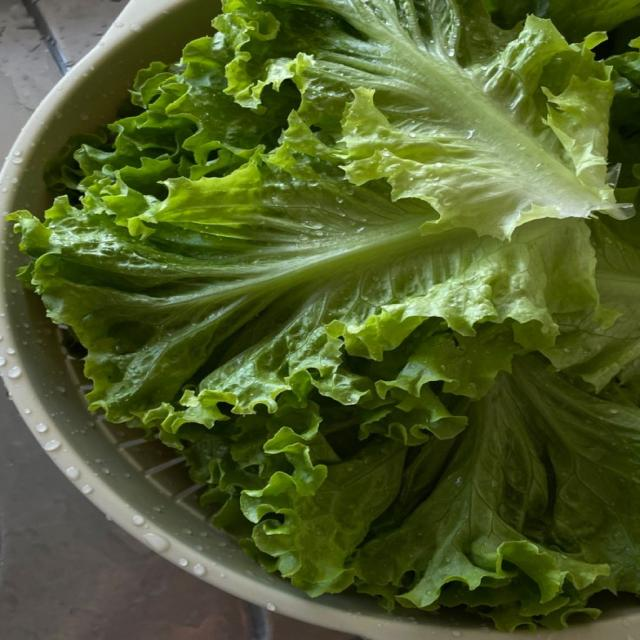lettuce: (13, 0, 639, 629)
